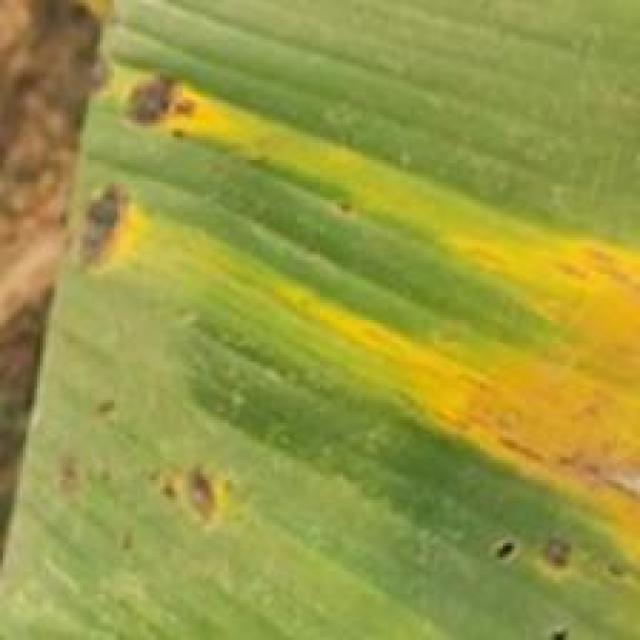Downey_mildrew: (68, 54, 640, 619)
